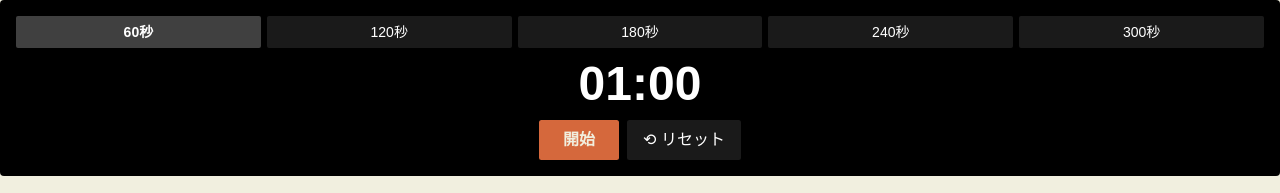
Test: RestTimer › 開始すると残り時間が減り、押下で一時停止に切り替わる
The image size is (1280, 193).
Click the button "開始".
click(579, 140)  # box [539, 120, 619, 160]
Wait 3000 ms
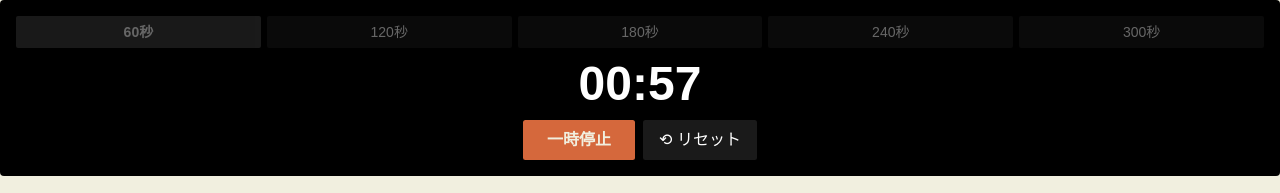
Now the button "一時停止" is shown, box [523, 120, 635, 160]
Now the text "00:57" is shown, box [579, 57, 701, 110]
